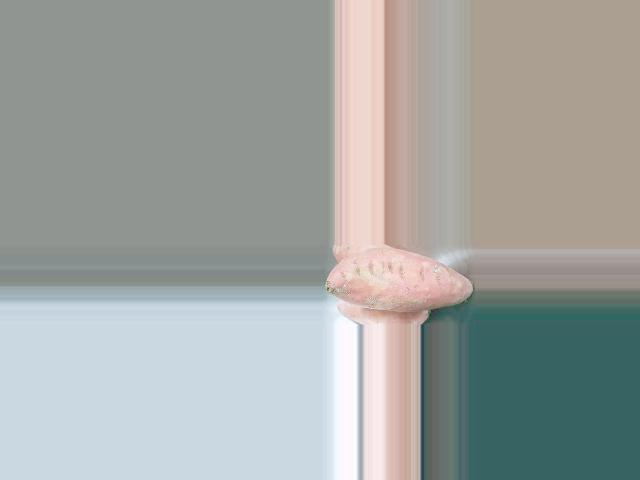sweet_potato: (325, 253, 471, 305)
